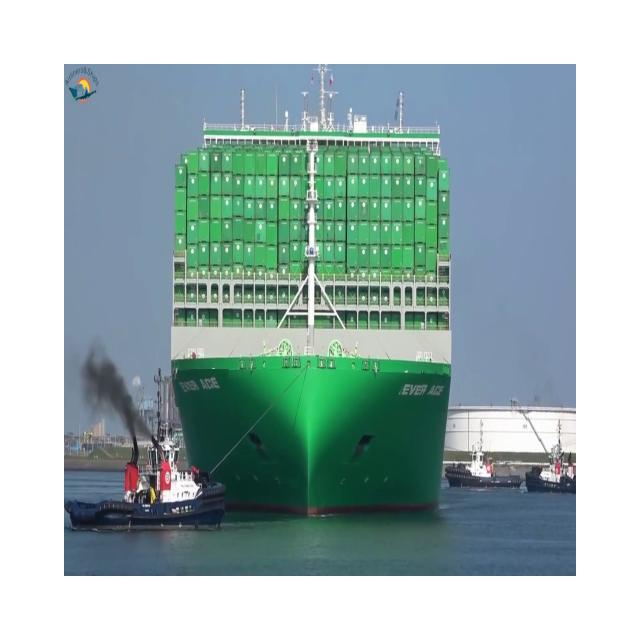OCR: (397, 365, 446, 413), (172, 369, 229, 408)
